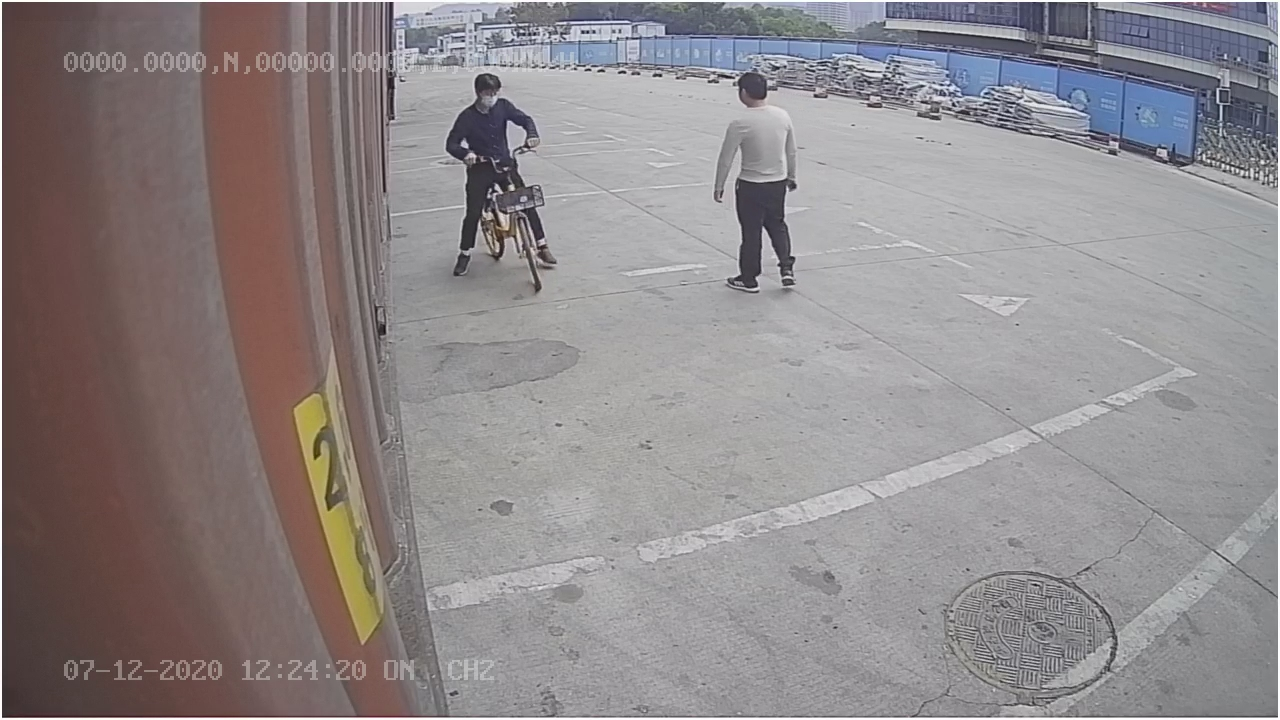person: (707, 65, 803, 295)
